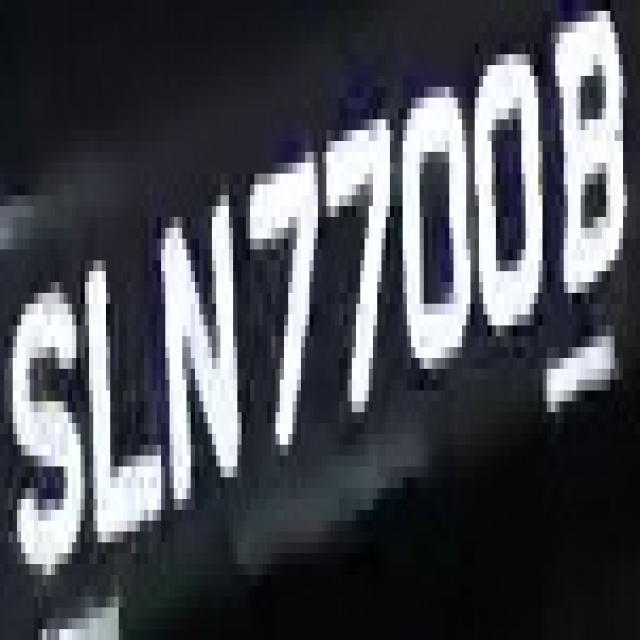0: (381, 54, 479, 402), (458, 43, 542, 380)
7: (301, 76, 398, 466), (229, 141, 330, 477)
B: (542, 33, 636, 336)
L: (68, 217, 169, 586)
N: (152, 173, 245, 542)
S: (13, 260, 89, 597)
